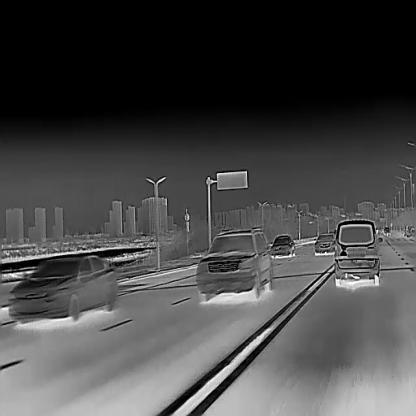car: (7, 253, 117, 322), (194, 227, 273, 301), (334, 218, 382, 285), (269, 234, 295, 258), (313, 233, 336, 256)
